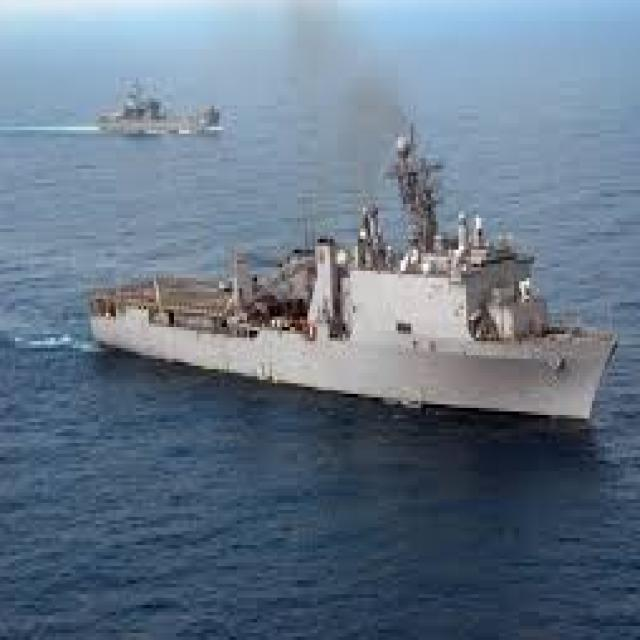navalvessels: (78, 126, 624, 440), (84, 74, 220, 163)
